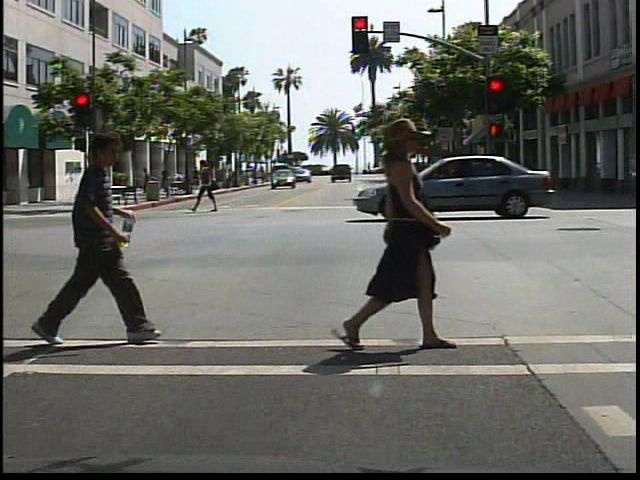person: (337, 120, 465, 355), (43, 127, 148, 348), (194, 156, 224, 215), (139, 164, 159, 204)
